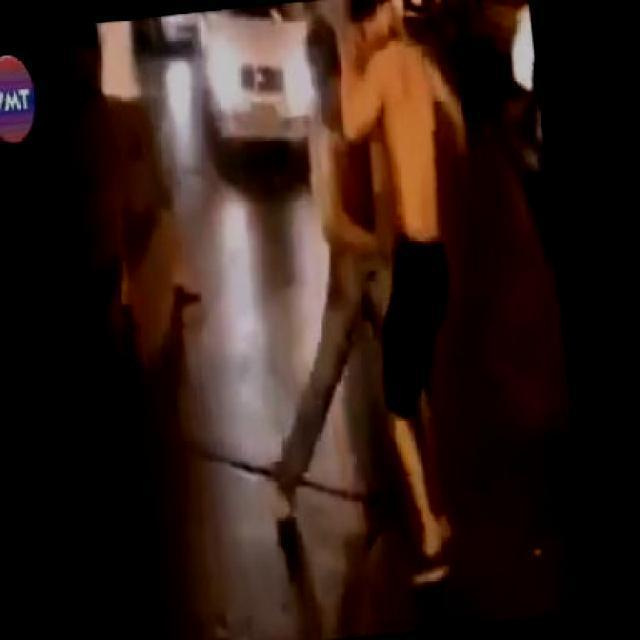fight: (284, 0, 490, 369)
